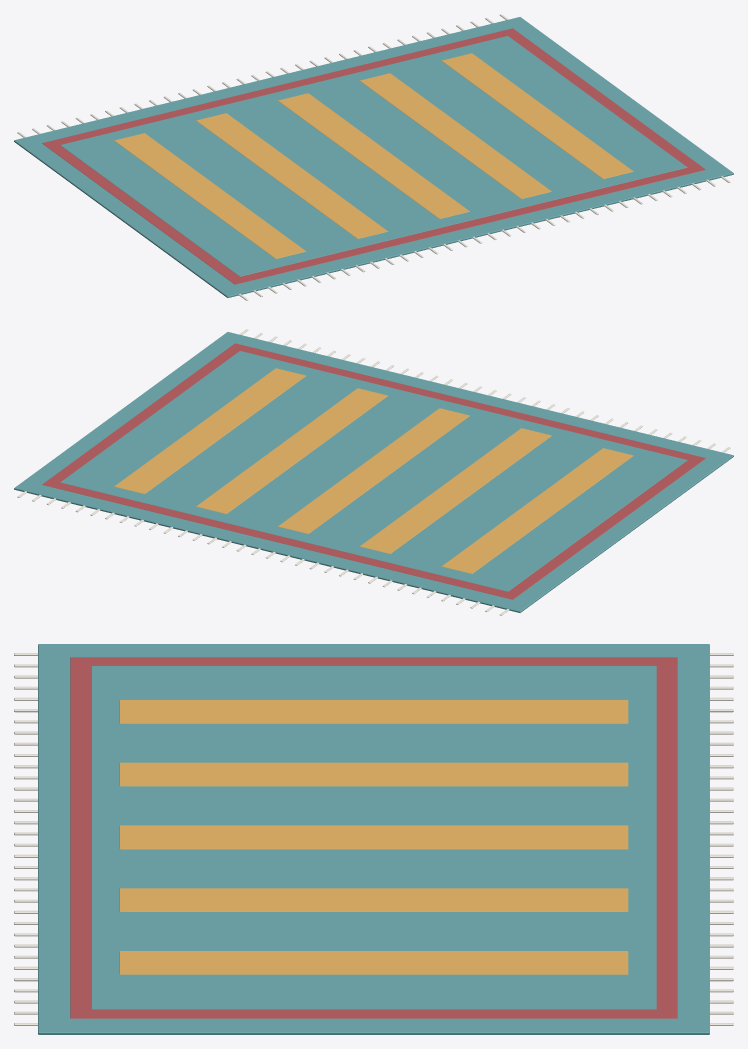
File: music-recording-studio-and-instruments-studio-rug-ce51c993__33829.glb
3 renders of one model, top to bottom at view 1: azimuth 30°, elevation 25°; view 2: azimuth 150°, elevation 25°; view 3: azimuth 270°, elevation 25°, orthographic. The views are drawn at different scales.
Visible parts, largest first — view 1: studio-rug; view 2: studio-rug; view 3: studio-rug.
Boxes of the visible parts, x1,y1,x2,y2 form: studio-rug: (14,14,733,300); studio-rug: (14,329,733,615); studio-rug: (14,644,733,1034).
Bounding box in the file's own units: 2.6 × 0.0121 × 2.04.
